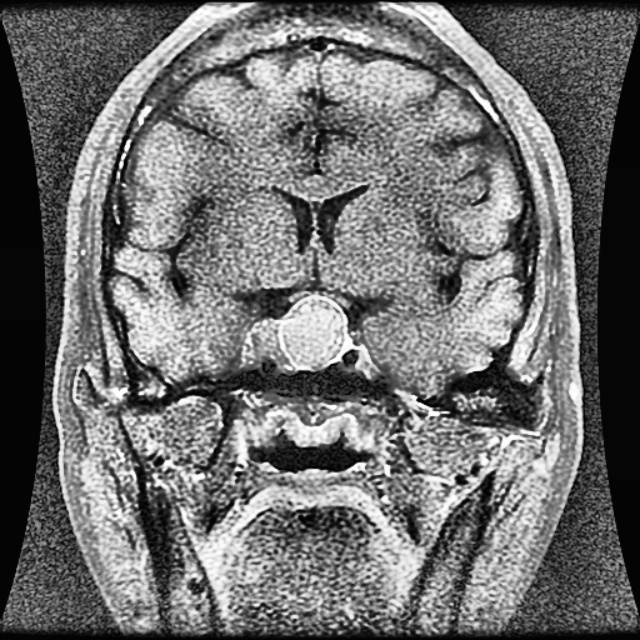Pituitary: (242, 295, 348, 370)
